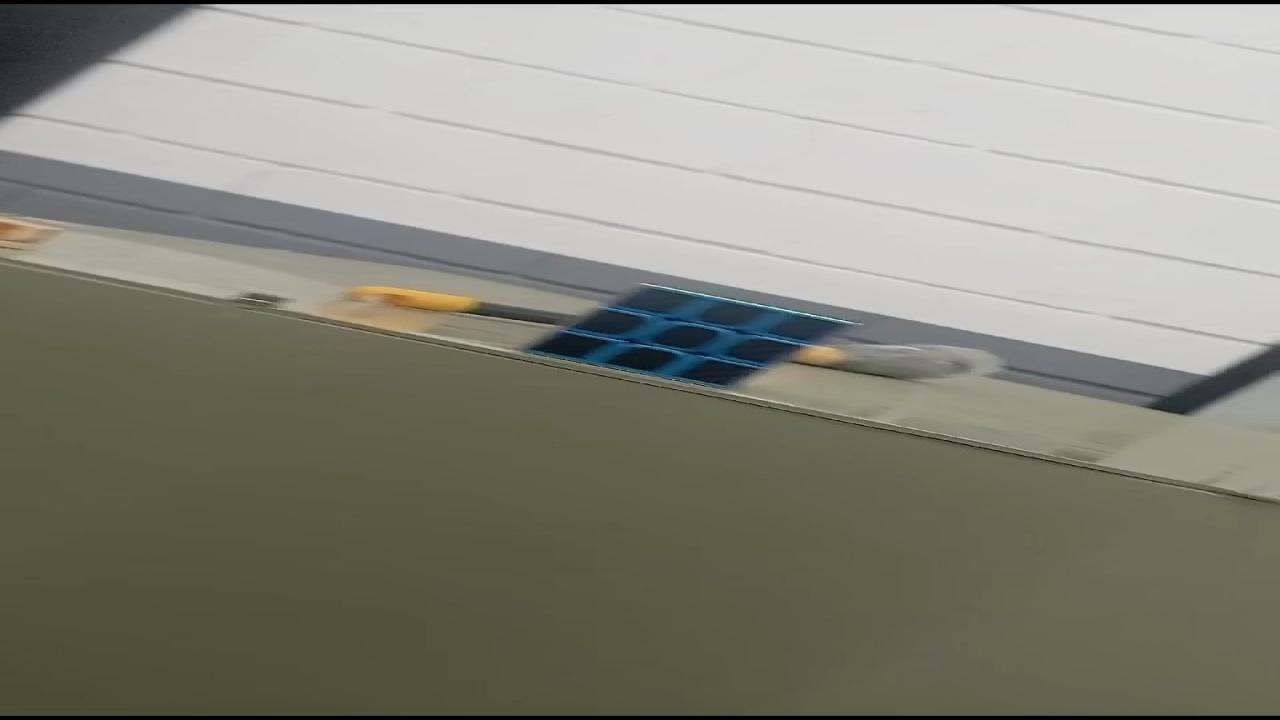Cube: (517, 282, 864, 388)
